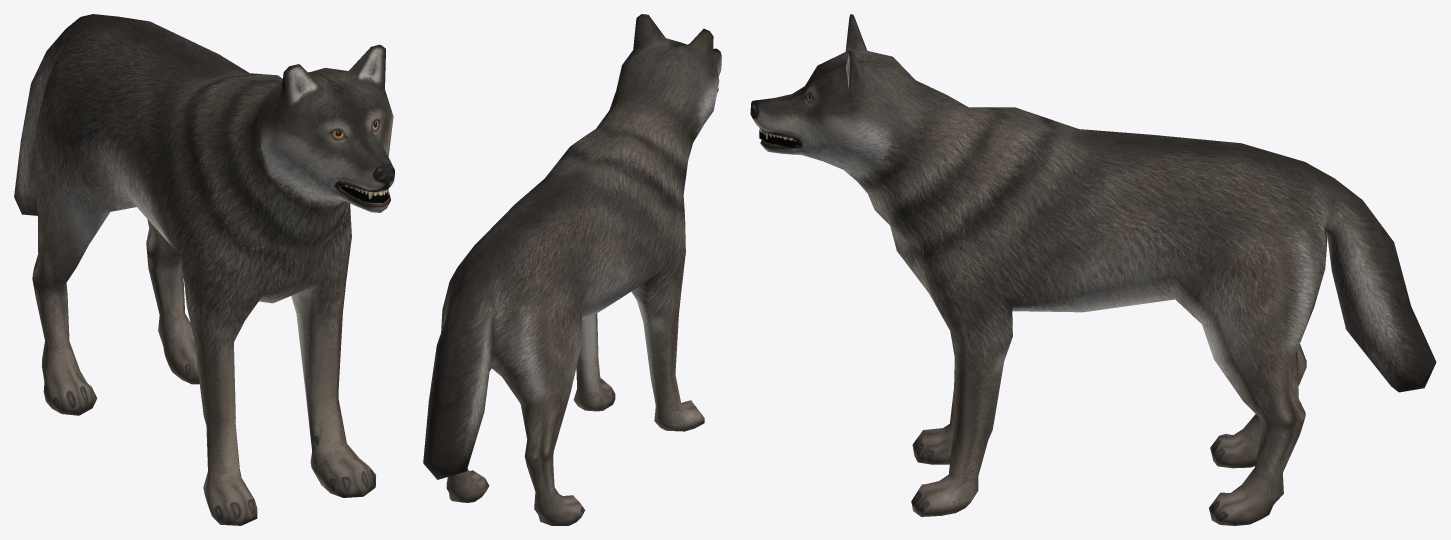
Rendered from wolfD.obj.
3 views of the same model, side by side, from view 1: azimuth 30°, elevation 25°; view 2: azimuth 150°, elevation 25°; view 3: azimuth 270°, elevation 25° (orthographic). The views are drawn at different scales.
Visible parts, largest first — view 1: wolfD:donji_zubi group; view 2: wolfD:donji_zubi group; view 3: wolfD:donji_zubi group.
Part boxes in pixels (x1,y1,x2,y2): wolfD:donji_zubi group: [14, 14, 394, 525]; wolfD:donji_zubi group: [423, 14, 721, 525]; wolfD:donji_zubi group: [750, 14, 1436, 525].
Size of the model in its own units: 29.69 by 83.47 by 113.
2 materials, 2 textured.
